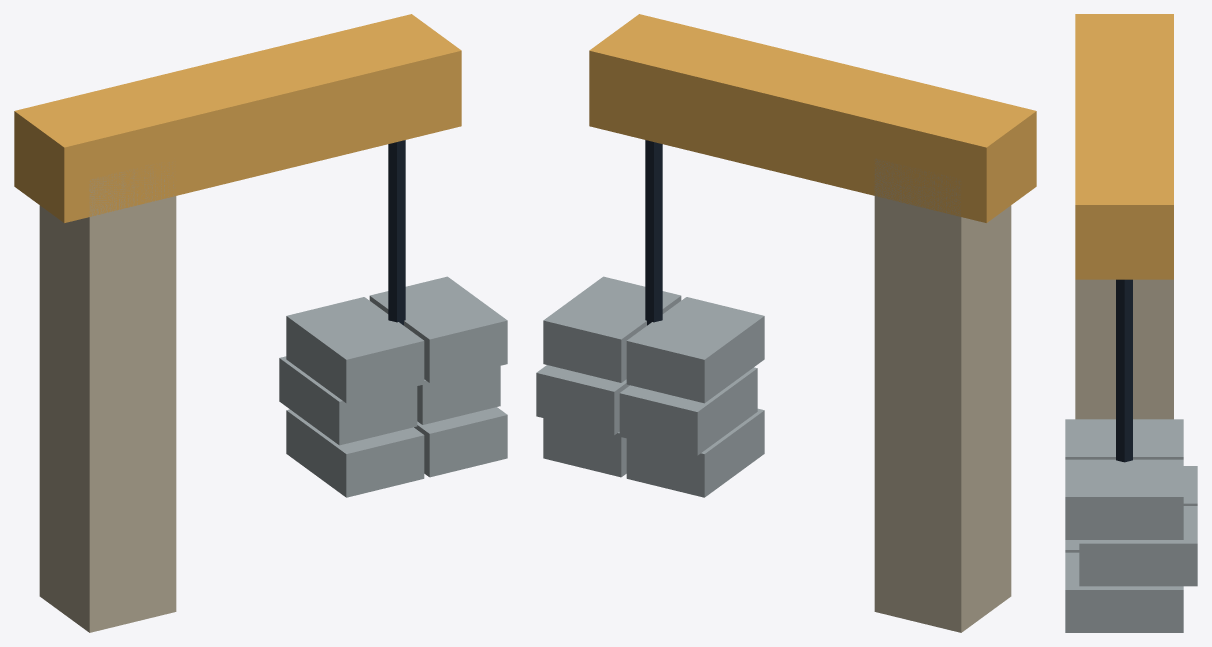
The model's file is space_scene_gravity_lift.glb.
The picture shows the model from 3 angles, left to right: view 1: azimuth 30°, elevation 25°; view 2: azimuth 150°, elevation 25°; view 3: azimuth 270°, elevation 25°; orthographic projection.
Parts seen in each view (by area): view 1: FixedDetails, BrassTrim; view 2: FixedDetails, BrassTrim; view 3: FixedDetails, BrassTrim.
Boxes of the visible parts, left/top/right/bottom form: FixedDetails: left=39, top=140, right=507, bottom=632; BrassTrim: left=14, top=14, right=461, bottom=222; FixedDetails: left=536, top=140, right=1011, bottom=632; BrassTrim: left=589, top=14, right=1036, bottom=222; FixedDetails: left=1065, top=279, right=1197, bottom=632; BrassTrim: left=1075, top=14, right=1173, bottom=279.
Size of the model in its own units: 0.6066 by 0.65 by 0.1608.
